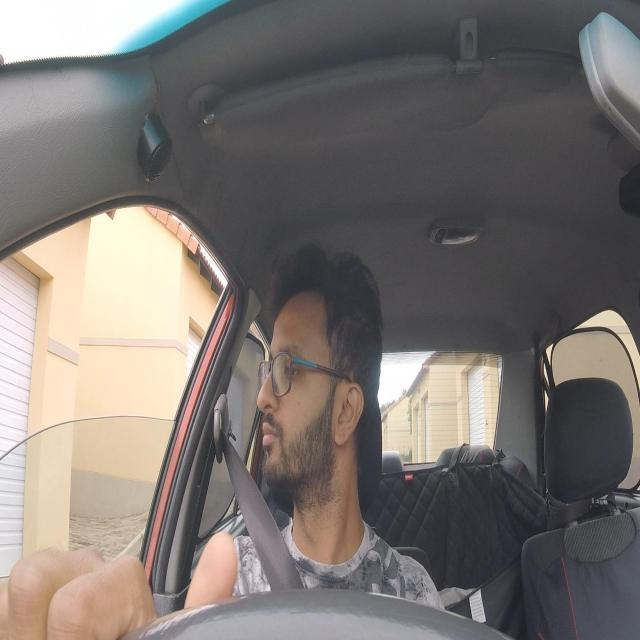open: (278, 343, 313, 406)
